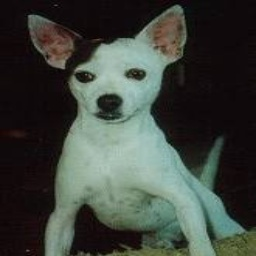dog: (28, 10, 247, 256)
